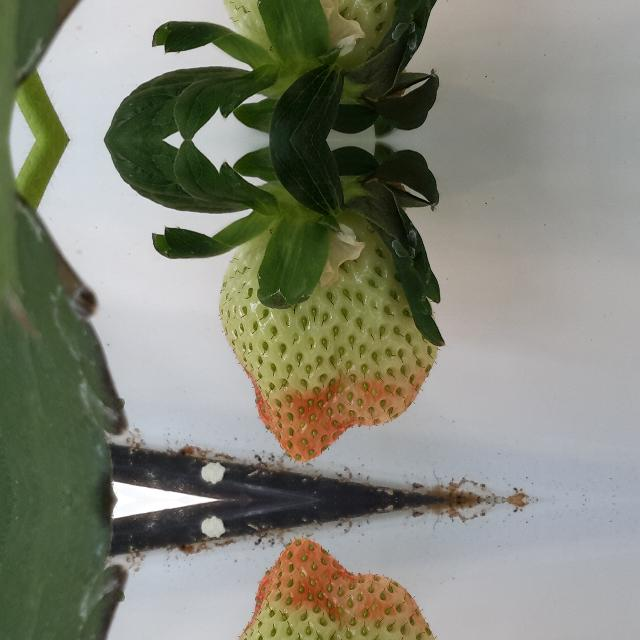Health_50: (217, 215, 439, 459), (217, 541, 439, 640), (217, 0, 439, 65)
